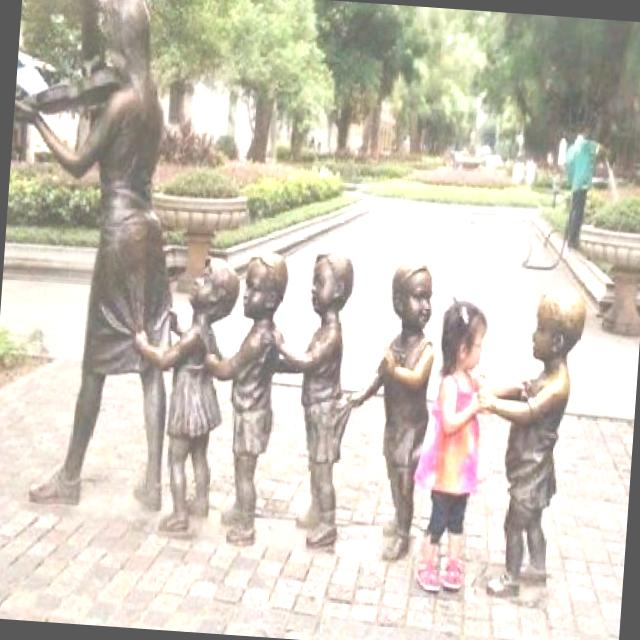Person: (463, 273, 590, 601), (329, 248, 444, 565), (121, 246, 242, 538), (252, 242, 364, 552), (192, 243, 291, 551), (401, 292, 496, 596), (554, 118, 610, 249)
